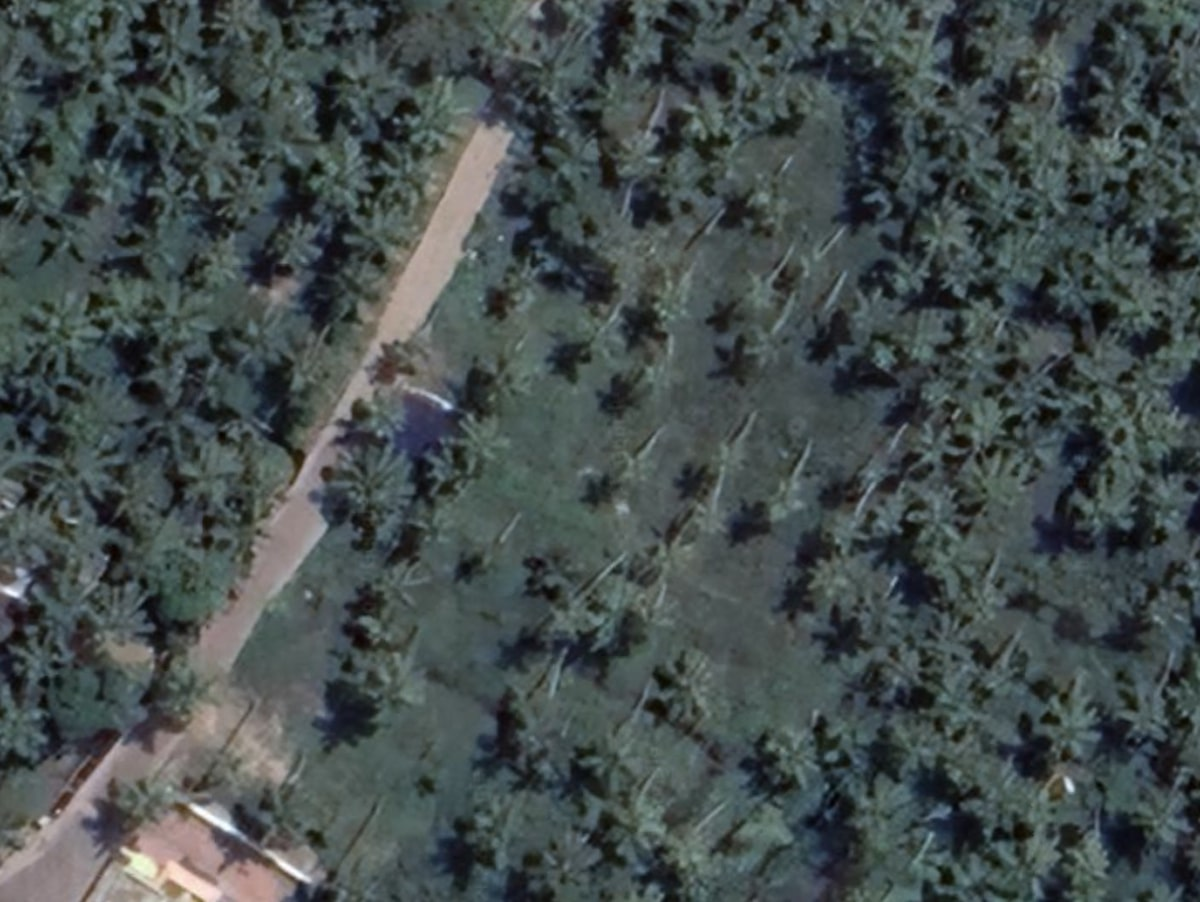coconut: (324, 442, 413, 530), (289, 142, 376, 223), (391, 77, 469, 161), (328, 44, 403, 128), (1028, 687, 1105, 768), (519, 827, 600, 902), (651, 653, 725, 735), (243, 780, 321, 855), (710, 319, 795, 386), (139, 79, 221, 146), (758, 718, 829, 794), (966, 451, 1037, 525), (465, 342, 537, 412), (1072, 470, 1137, 547), (28, 292, 97, 364), (921, 595, 984, 673), (1020, 41, 1079, 123), (93, 274, 161, 345), (575, 69, 646, 137), (155, 285, 222, 357), (931, 79, 996, 153), (602, 346, 676, 408), (582, 729, 648, 796), (919, 199, 980, 268), (1087, 66, 1148, 130), (1052, 260, 1105, 333), (796, 550, 857, 613), (261, 216, 319, 278), (607, 439, 660, 501), (734, 261, 779, 316)
